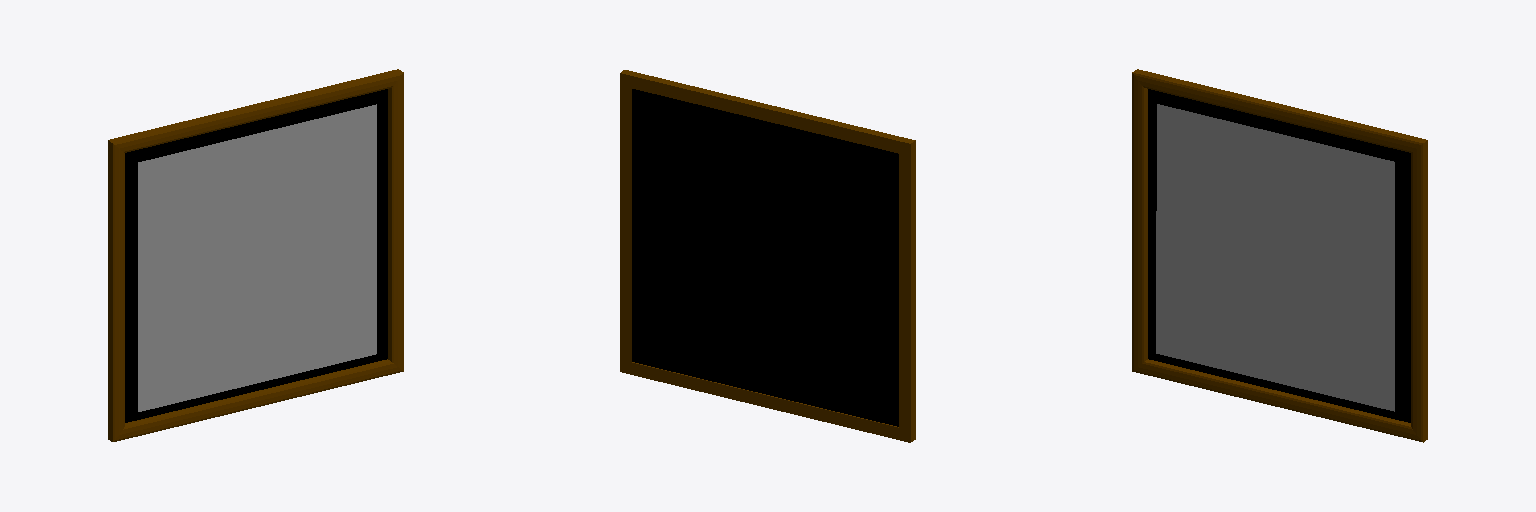
Rendered from SquirrelFrame.obj.
3 renders of one model, left to right at view 1: azimuth 30°, elevation 25°; view 2: azimuth 150°, elevation 25°; view 3: azimuth 330°, elevation 25°, orthographic.
Parts seen in each view (by area): view 1: Photo_Cube, WoodFrame_Cylinder, Frame_Black; view 2: Frame_Black, WoodFrame_Cylinder; view 3: Photo_Cube, WoodFrame_Cylinder, Frame_Black.
Part boxes in pixels (bbox=[...]): Photo_Cube: bbox=[138, 104, 376, 411]; WoodFrame_Cylinder: bbox=[108, 69, 403, 441]; Frame_Black: bbox=[125, 89, 387, 422]; Frame_Black: bbox=[632, 89, 898, 426]; WoodFrame_Cylinder: bbox=[620, 70, 915, 442]; Photo_Cube: bbox=[1156, 104, 1394, 411]; WoodFrame_Cylinder: bbox=[1132, 69, 1427, 442]; Frame_Black: bbox=[1148, 89, 1410, 422].
Bounding box in the file's own units: 48.72 × 47.86 × 1.6.